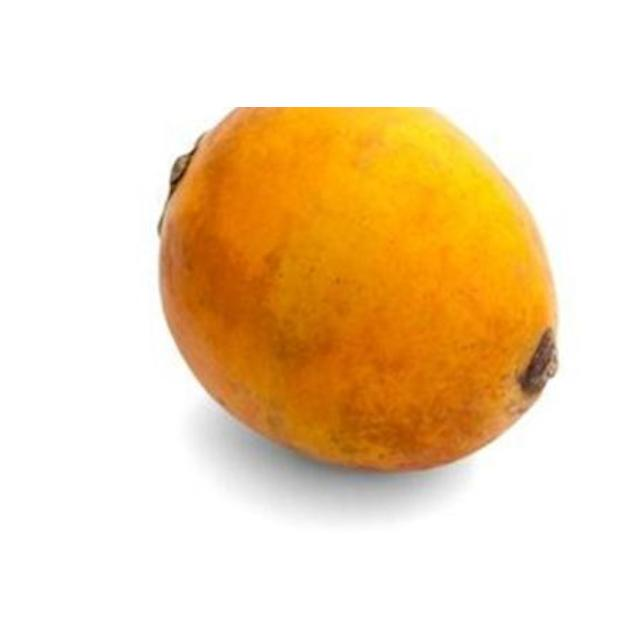good: (158, 107, 560, 475)
